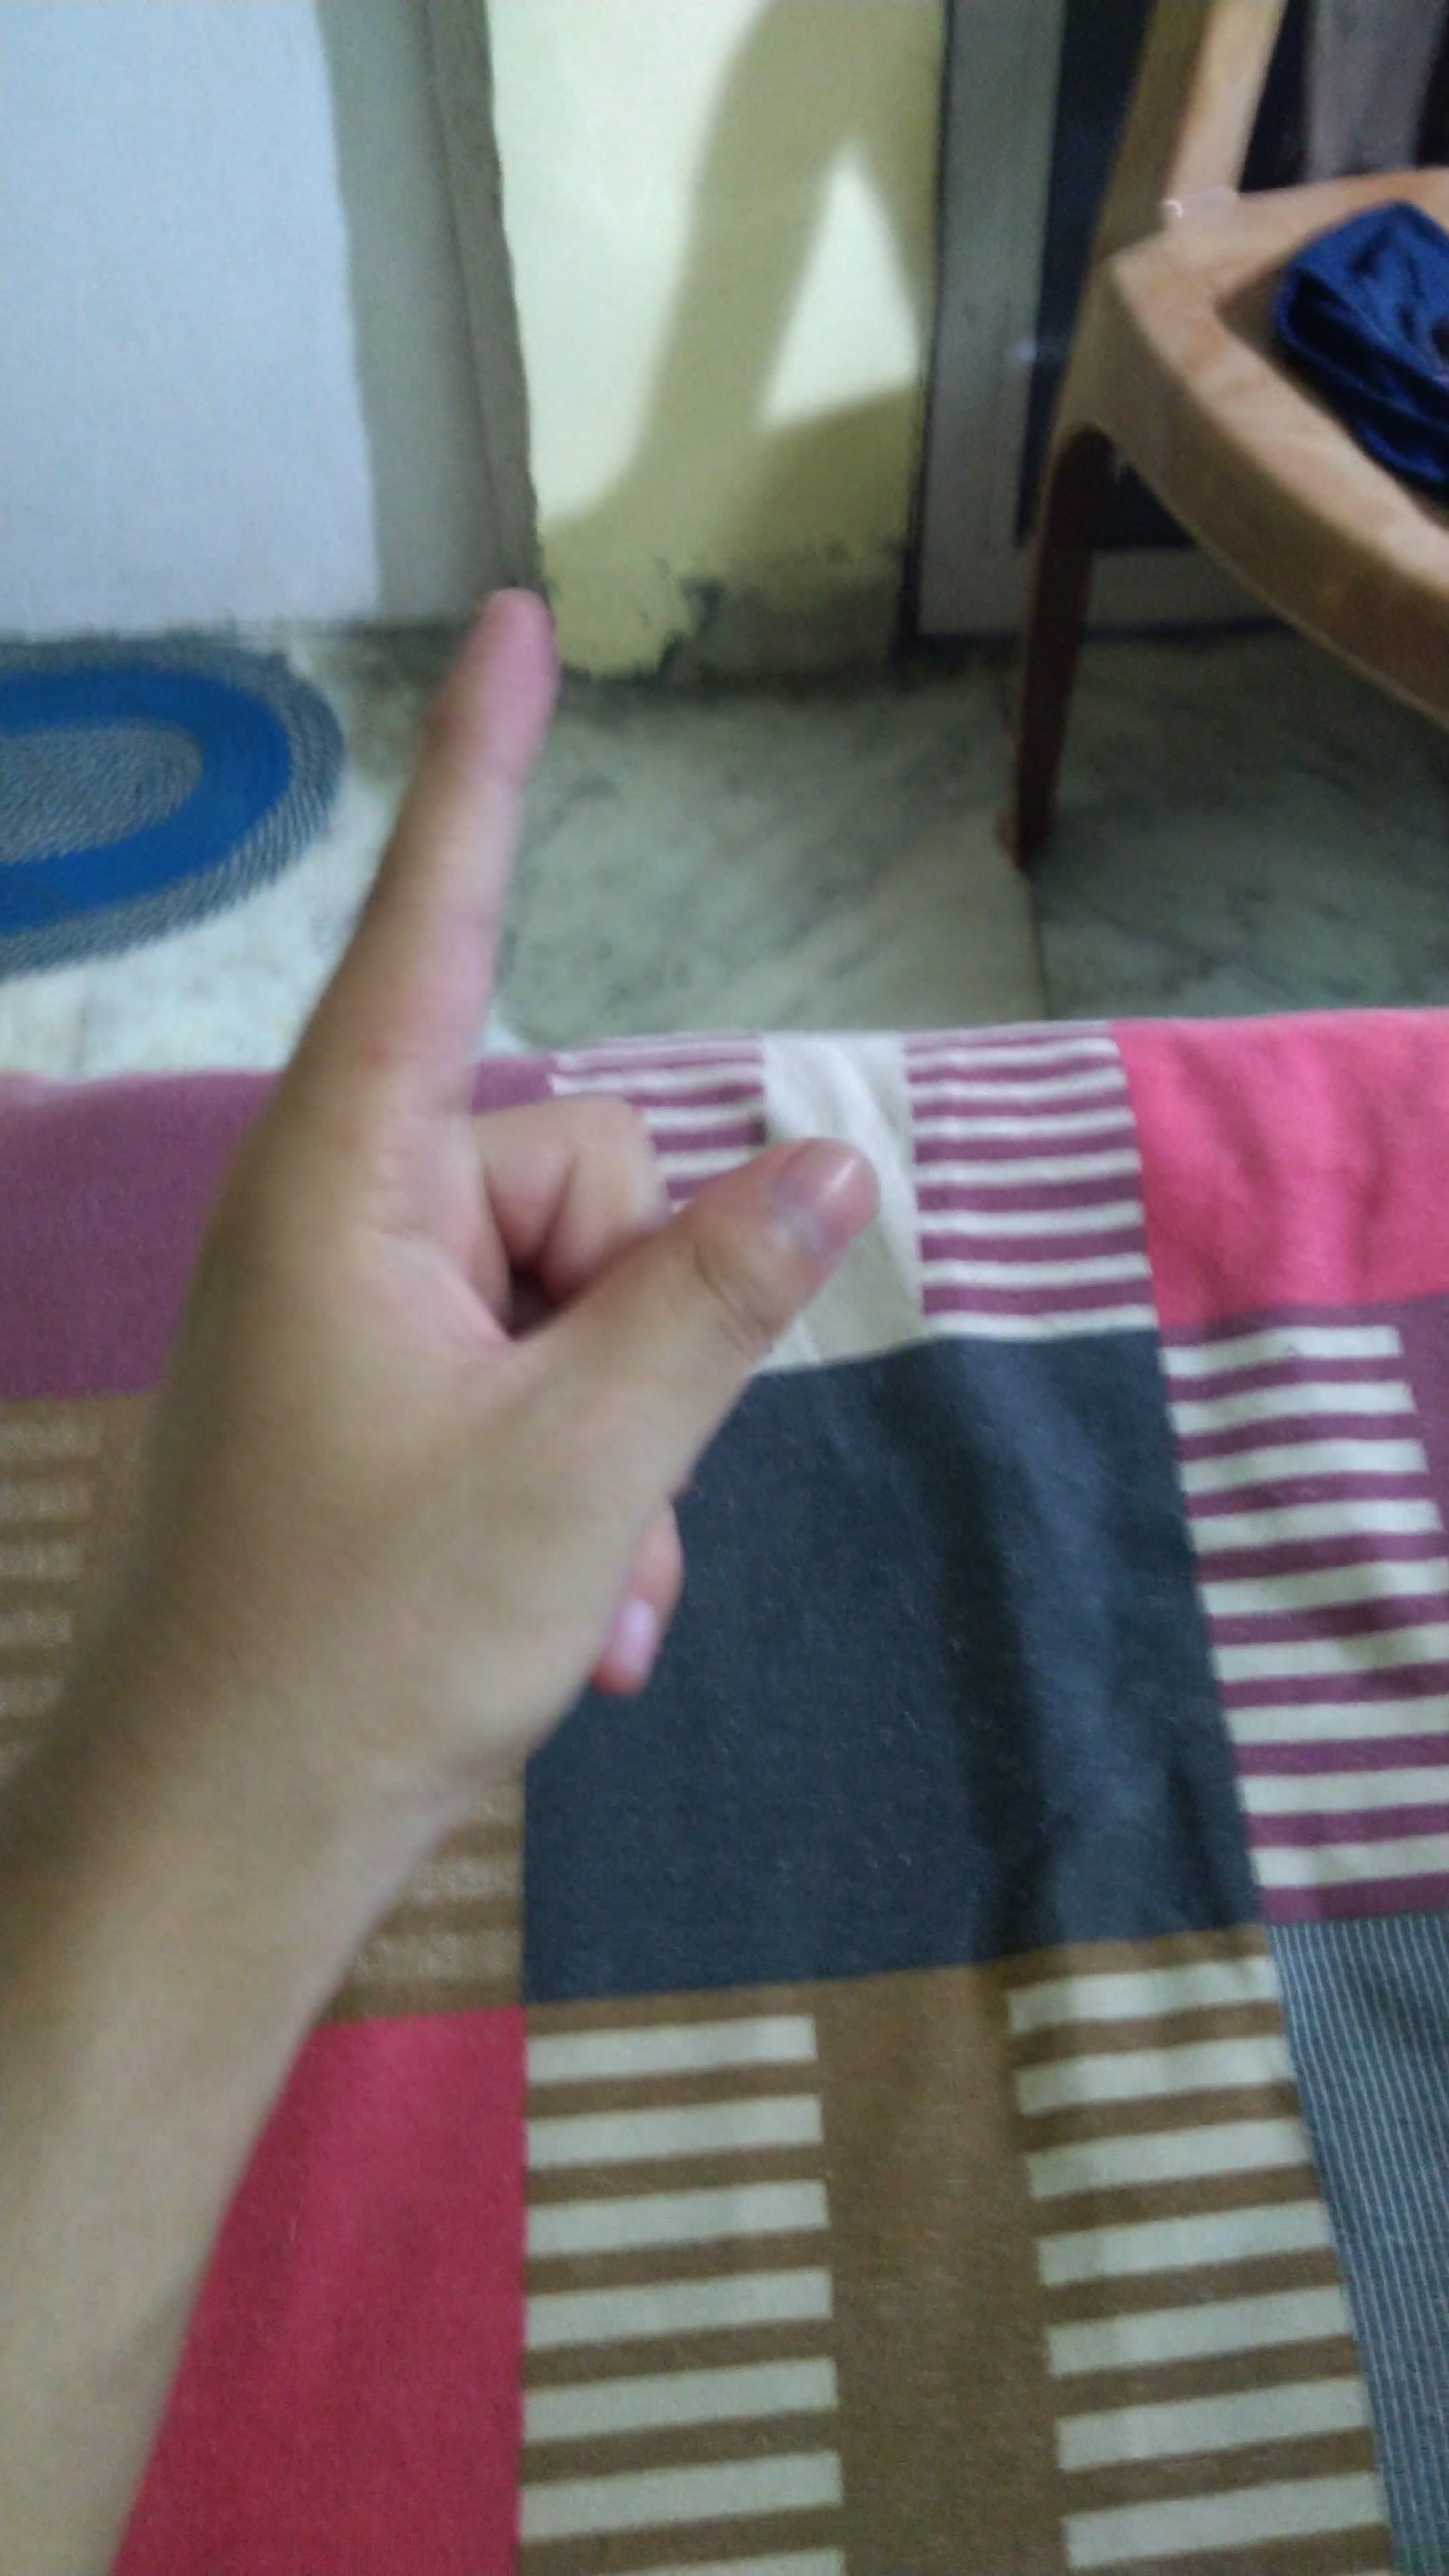hand: (65, 550, 924, 1828)
